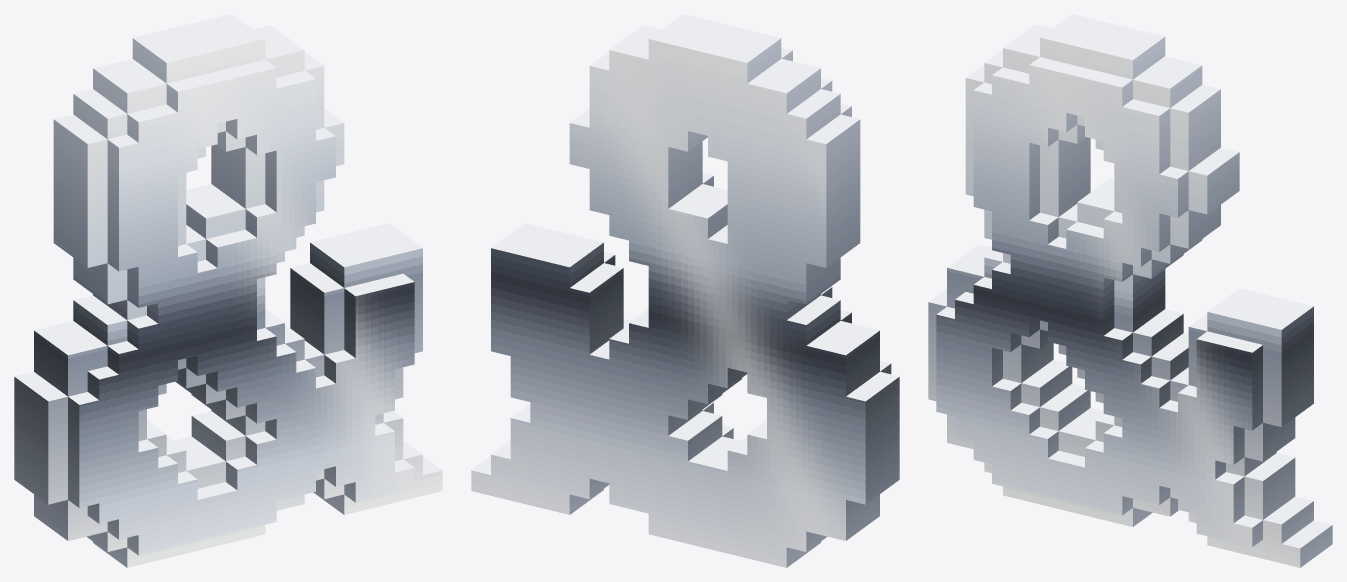
Rendered from ampersand.glb.
3 views of the same model, side by side, from view 1: azimuth 30°, elevation 25°; view 2: azimuth 150°, elevation 25°; view 3: azimuth 330°, elevation 25° (orthographic). The views are drawn at different scales.
Visible parts, largest first — view 1: Letter ampersand; view 2: Letter ampersand; view 3: Letter ampersand.
Boxes of the visible parts, x1,y1,x2,y2 form: Letter ampersand: (14, 14, 442, 567); Letter ampersand: (471, 14, 899, 567); Letter ampersand: (928, 14, 1332, 567).
Bounding box in the file's own units: 1.25 × 1.5 × 0.25.
Materials: 1 (1 with a texture image).
